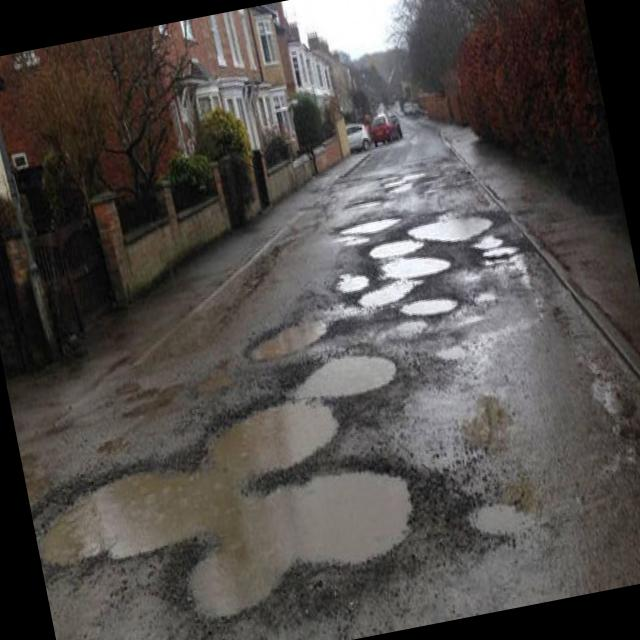Potholes: (15, 355, 452, 640), (240, 263, 490, 372), (338, 183, 520, 286)
